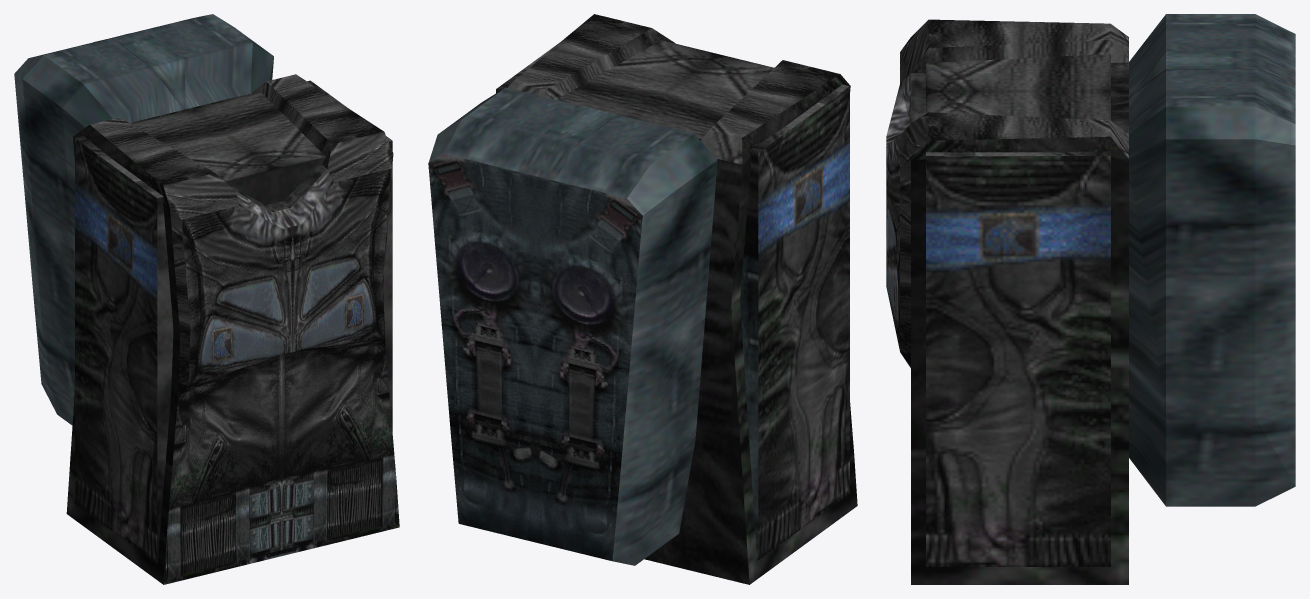
File: arm_seva_chest.obj
3 renders of one model, left to right at view 1: azimuth 30°, elevation 25°; view 2: azimuth 150°, elevation 25°; view 3: azimuth 270°, elevation 25°, orthographic. The views are drawn at different scales.
Parts seen in each view (by area): view 1: Cube_Cube.001; view 2: Cube_Cube.001; view 3: Cube_Cube.001.
Boxes of the visible parts, box(x1,y1,x2,y2) form: Cube_Cube.001: box(14, 14, 399, 584); Cube_Cube.001: box(428, 14, 857, 584); Cube_Cube.001: box(886, 14, 1295, 584).
Bounding box in the file's own units: 1.99 × 3.3 × 2.66.
